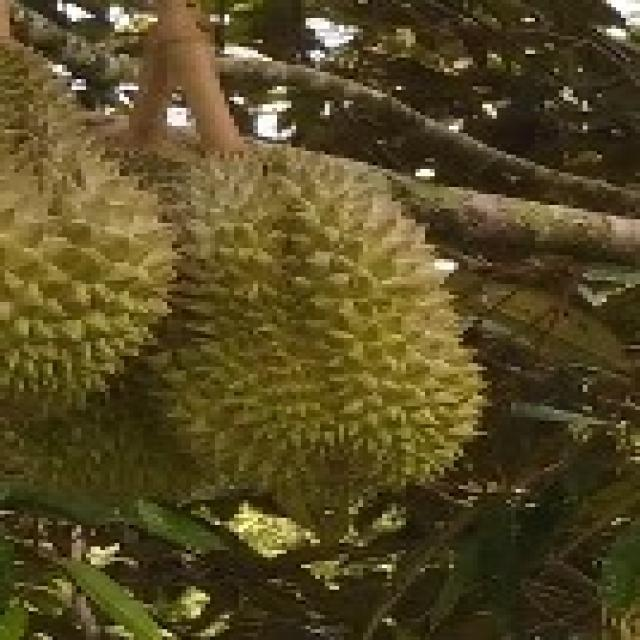immature: (140, 141, 492, 501)
